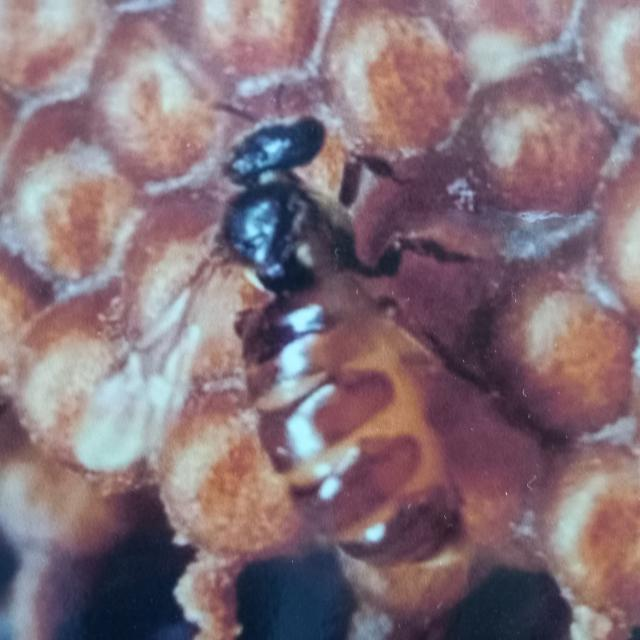honeybee: (198, 92, 492, 581)
